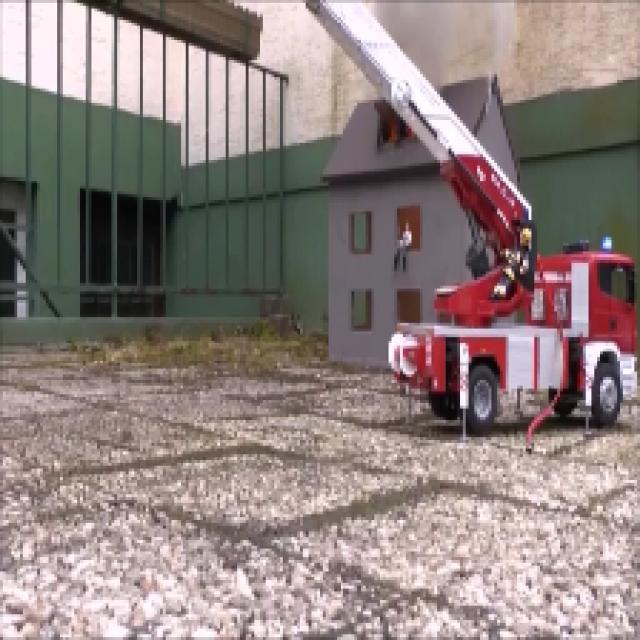Smoke: (390, 11, 452, 52)
